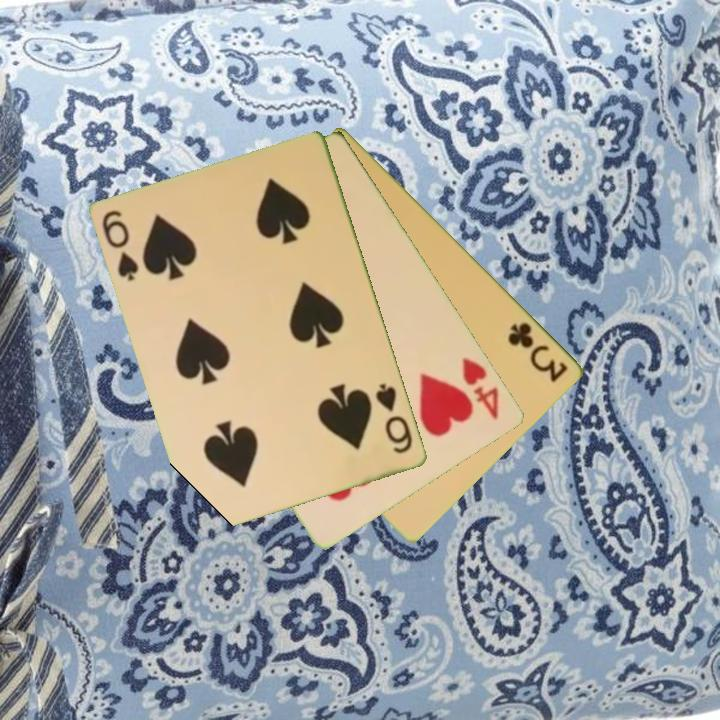3c: (505, 318, 572, 386)
4h: (459, 353, 503, 423)
6s: (372, 380, 416, 457), (99, 206, 142, 284)
